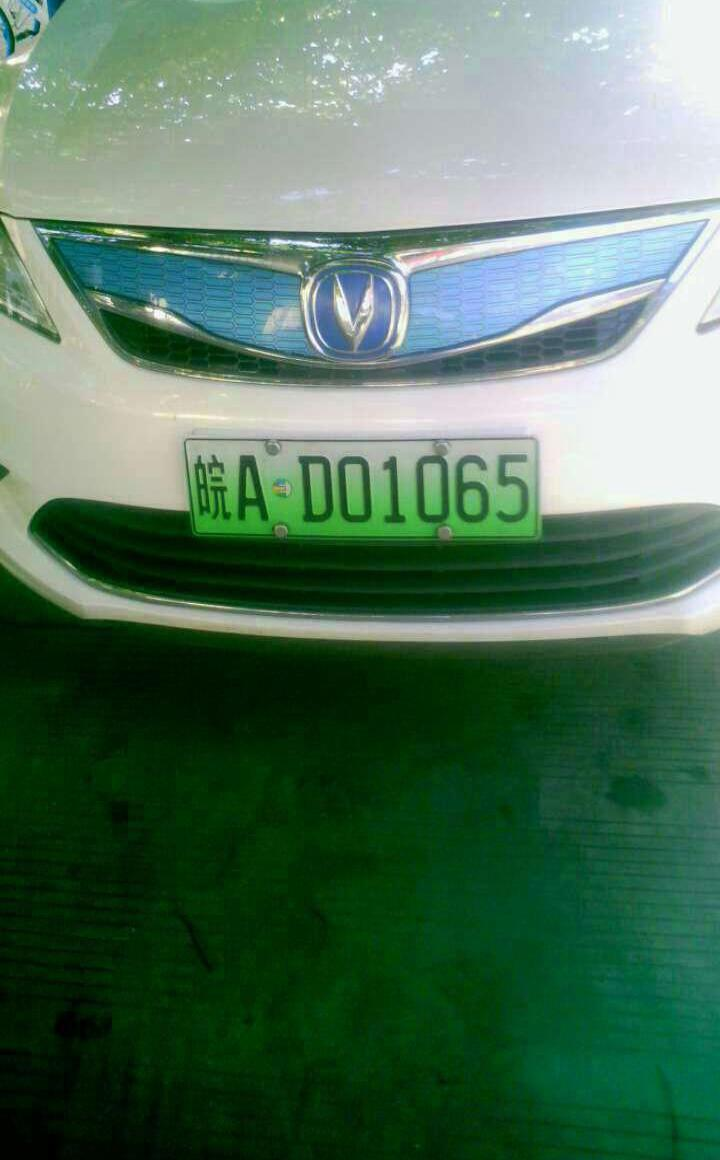car_id: (181, 437, 537, 542)
